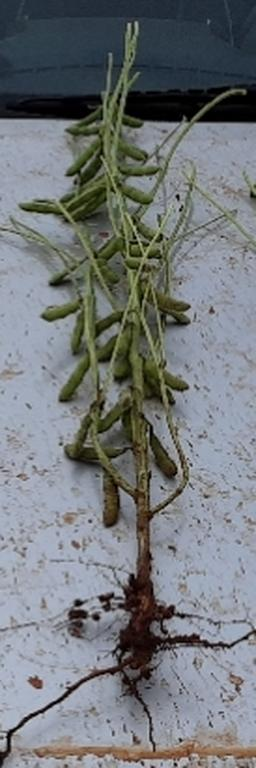pod: (147, 432, 177, 480), (96, 472, 119, 531), (58, 359, 87, 402), (99, 397, 133, 432), (148, 288, 188, 310), (117, 163, 164, 180), (41, 298, 81, 317), (95, 308, 122, 335), (123, 184, 155, 206), (121, 140, 153, 159), (96, 335, 118, 361), (63, 123, 100, 136)
soy: (8, 71, 191, 696)
